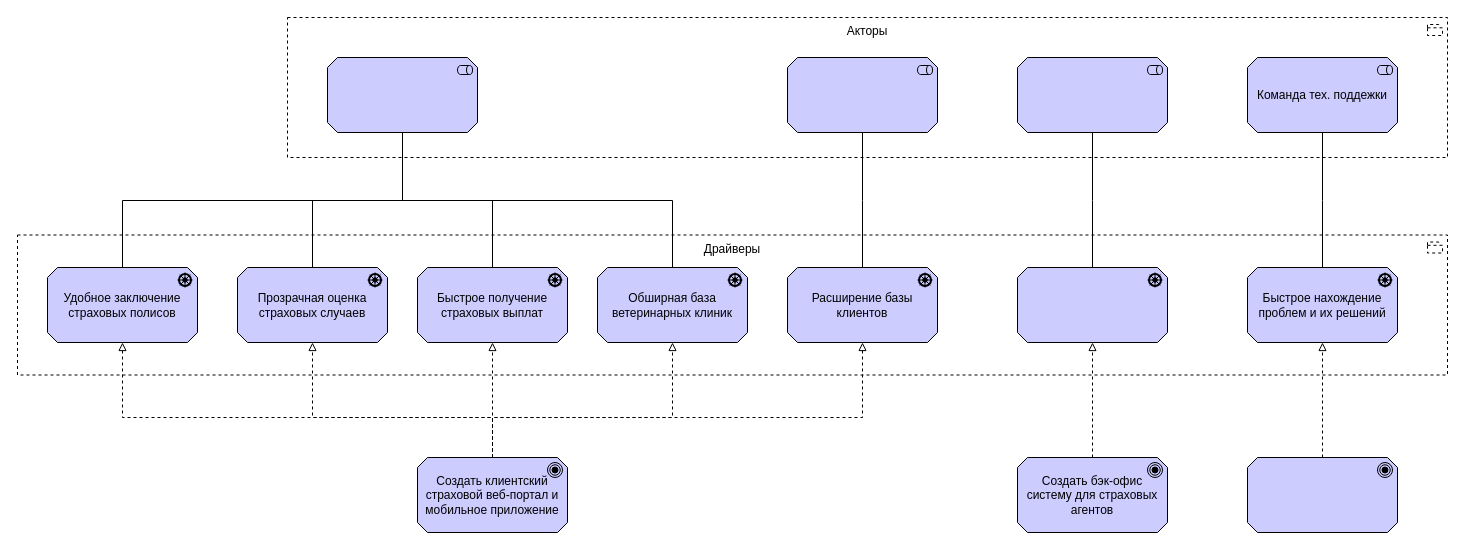
Some shapes in this 1465 by 550 pixel diagram are drawn without their labels. The centre of each missing label's shape, as x and y in pixels:
Ветеринарные клиники: point (862, 94)
Владельцы питомцев: point (402, 94)
Предоставить систему логирования и базу знаний для траблшутинга: point (1322, 494)
Страховые агенты: point (1092, 94)
Ускорение отработки страховых полисов и случаев: point (1092, 304)
